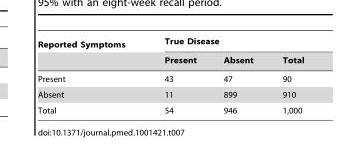table: (37, 36, 303, 114)
table column: (37, 36, 144, 114), (144, 36, 209, 114), (209, 36, 267, 114), (267, 36, 303, 114)
table column header: (37, 36, 303, 69)
table row: (37, 52, 303, 69), (37, 69, 303, 86), (37, 36, 303, 52), (37, 86, 303, 102), (37, 102, 303, 114)
table spanning cell: (37, 36, 144, 69), (144, 36, 303, 52)
